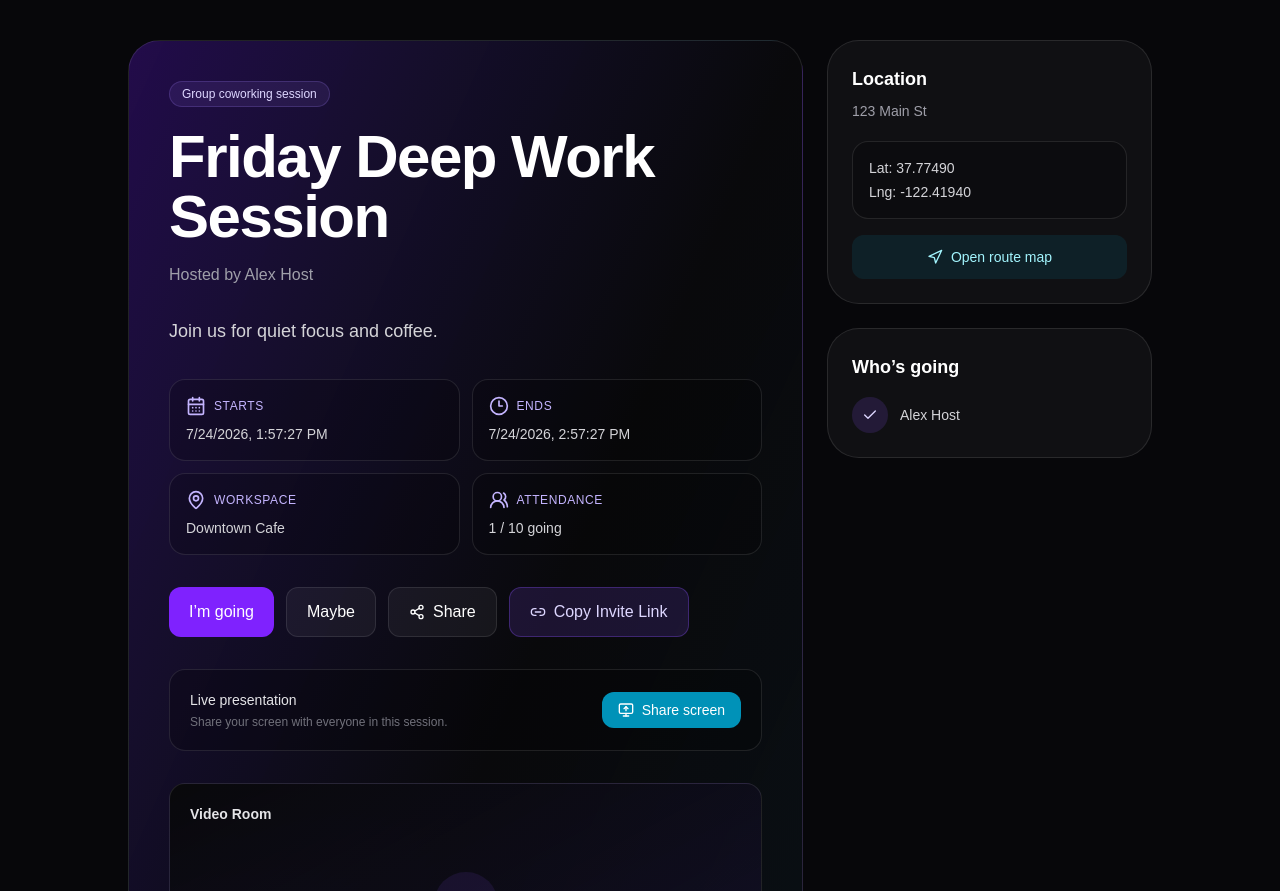
SessionDetailClient Secure Invite Generator (#1420) › renders Copy Invite Link button and copies secure invite link on click
Click the button "Copy Invite Link": point(599, 612) [509, 587, 688, 637]
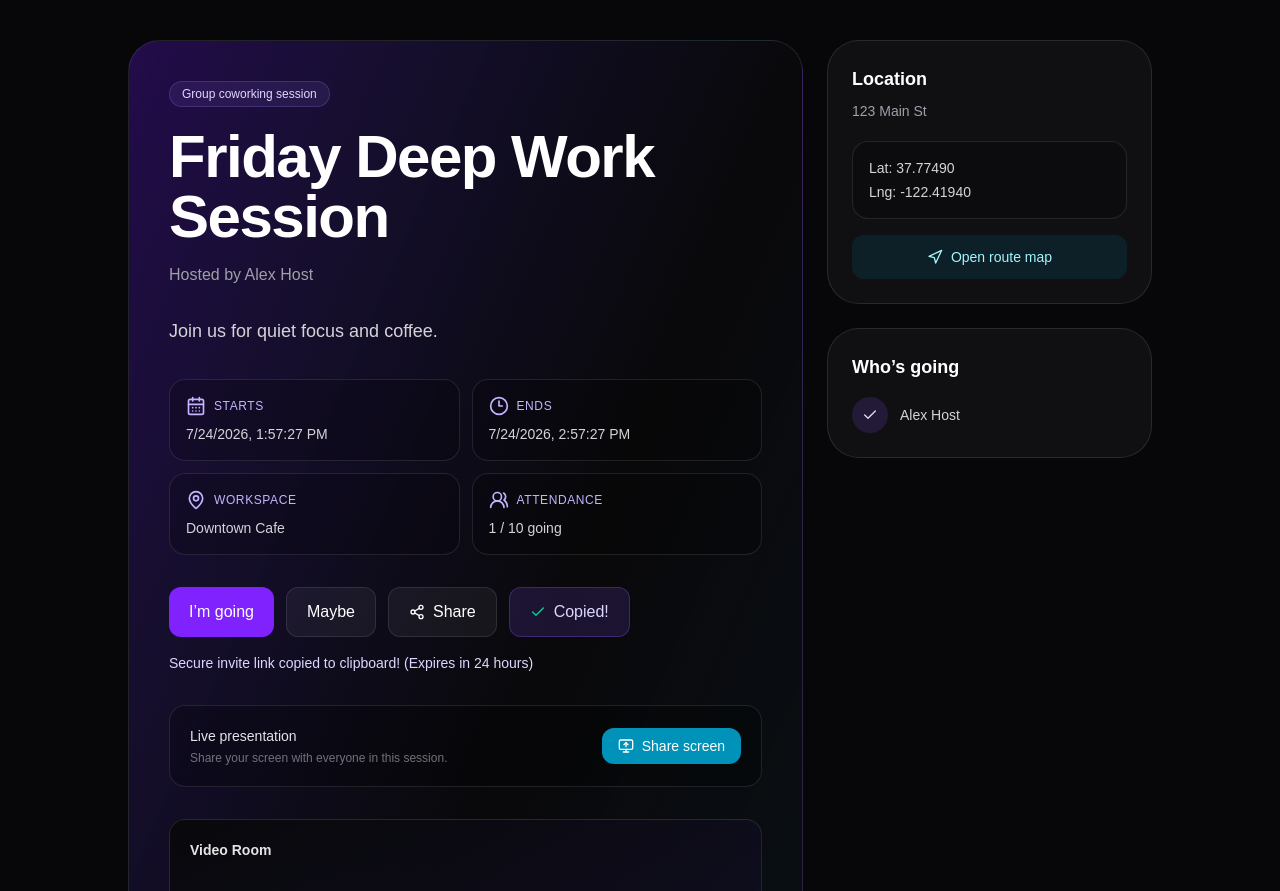
Result: the text "Secure invite link copied to clipboard" is shown at [169, 655, 533, 671]
